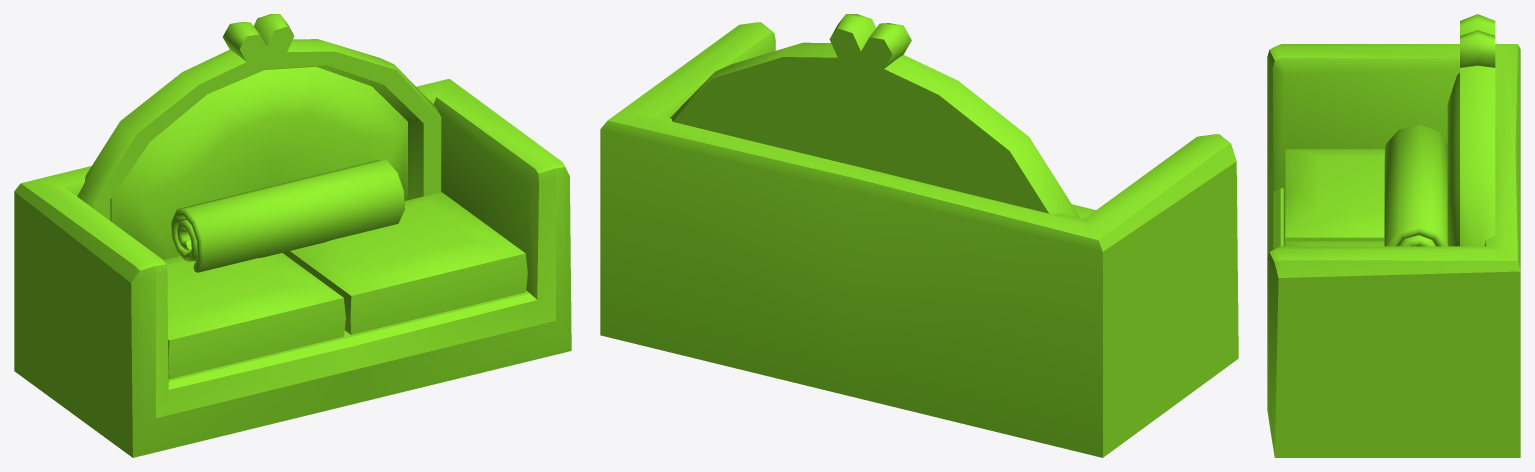
File: SM_EastCouch_A.fbx
The picture shows the model from 3 angles, left to right: view 1: azimuth 30°, elevation 25°; view 2: azimuth 150°, elevation 25°; view 3: azimuth 270°, elevation 25°; orthographic projection. The views are drawn at different scales.
Visible parts, largest first — view 1: SM_EastCouch_A; view 2: SM_EastCouch_A; view 3: SM_EastCouch_A.
Boxes of the visible parts, left/top/right/bottom form: SM_EastCouch_A: left=14, top=14, right=571, bottom=457; SM_EastCouch_A: left=600, top=14, right=1238, bottom=457; SM_EastCouch_A: left=1267, top=14, right=1520, bottom=457.
Bounding box in the file's own units: 305 × 208 × 147.
